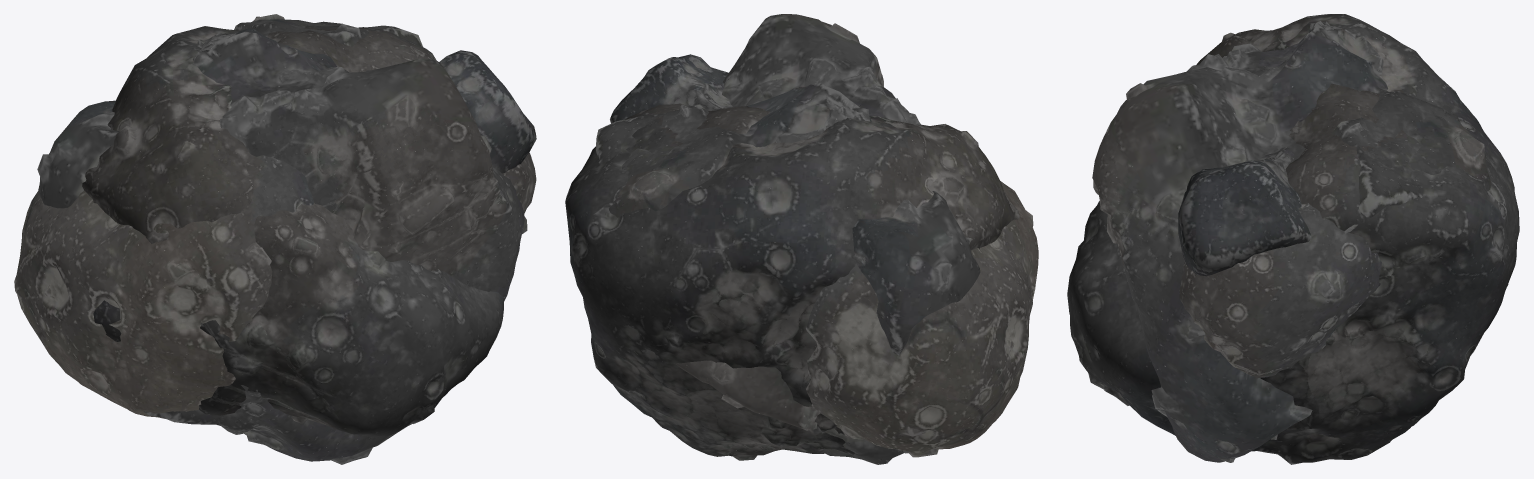
The model's file is asteroids.glb.
3 renders of one model, left to right at view 1: azimuth 30°, elevation 25°; view 2: azimuth 150°, elevation 25°; view 3: azimuth 270°, elevation 25°, orthographic.
Visible parts, largest first — view 1: Asteroid0, Asteroid3, Asteroid2, Asteroid1; view 2: Asteroid0, Asteroid3, Asteroid2, Asteroid1; view 3: Asteroid0, Asteroid3, Asteroid2, Asteroid1.
Boxes of the visible parts, x1=… form: Asteroid0: x1=82, y1=21, x2=503, y2=437; Asteroid3: x1=37, y1=14, x2=527, y2=464; Asteroid2: x1=14, y1=152, x2=536, y2=418; Asteroid1: x1=93, y1=50, x2=536, y2=341; Asteroid0: x1=565, y1=103, x2=1019, y2=460; Asteroid3: x1=595, y1=14, x2=980, y2=464; Asteroid2: x1=806, y1=181, x2=1038, y2=457; Asteroid1: x1=610, y1=54, x2=908, y2=453; Asteroid0: x1=1067, y1=14, x2=1519, y2=464; Asteroid3: x1=1092, y1=21, x2=1491, y2=462; Asteroid2: x1=1179, y1=199, x2=1381, y2=377; Asteroid1: x1=1178, y1=147, x2=1311, y2=276.
Size of the model in its own units: 3.77 by 3.22 by 3.29.
4 materials, 4 textured.
